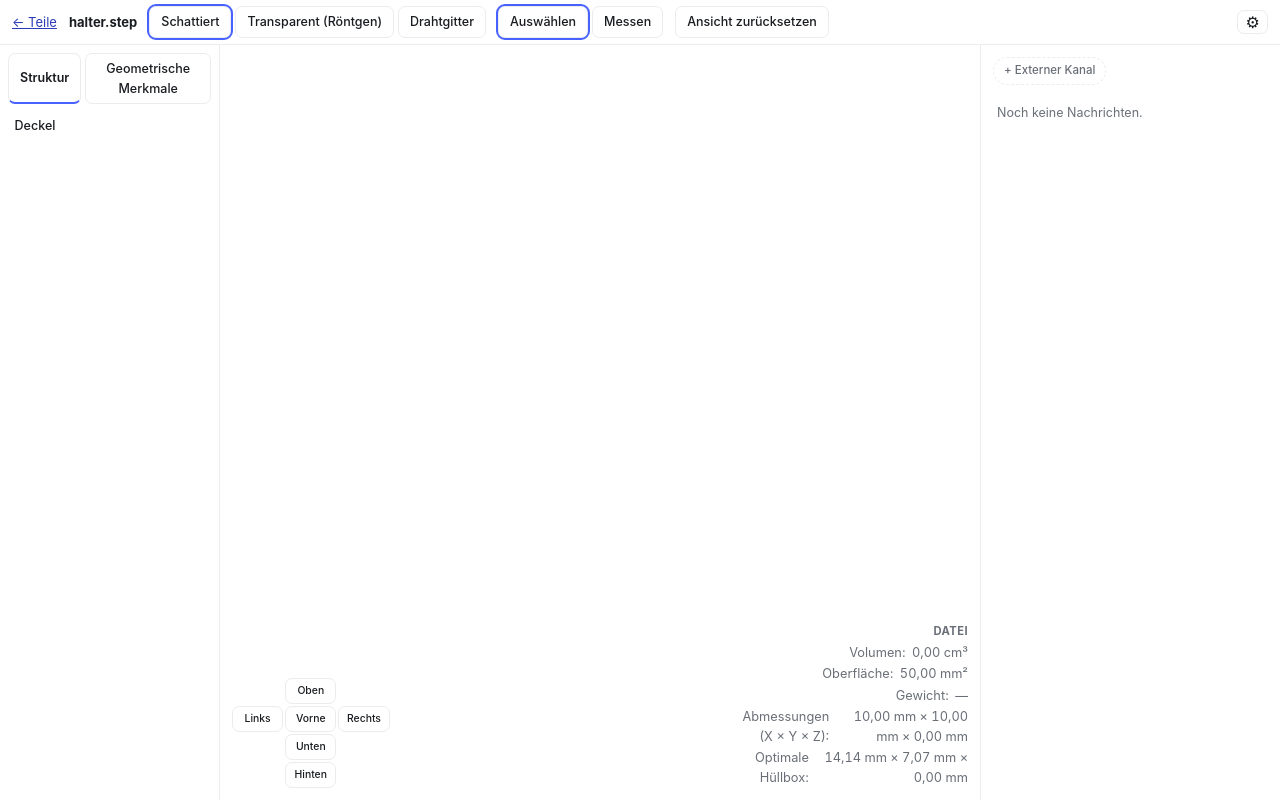
CadViewerPage › has a Geometric Features tab backed by the interrogation state (M4.1)
Expected: the button "Deckel" is shown, [8,112,211,140]
Click the tab "Geometrische Merkmale" at (148, 79), box [85,53,211,104]
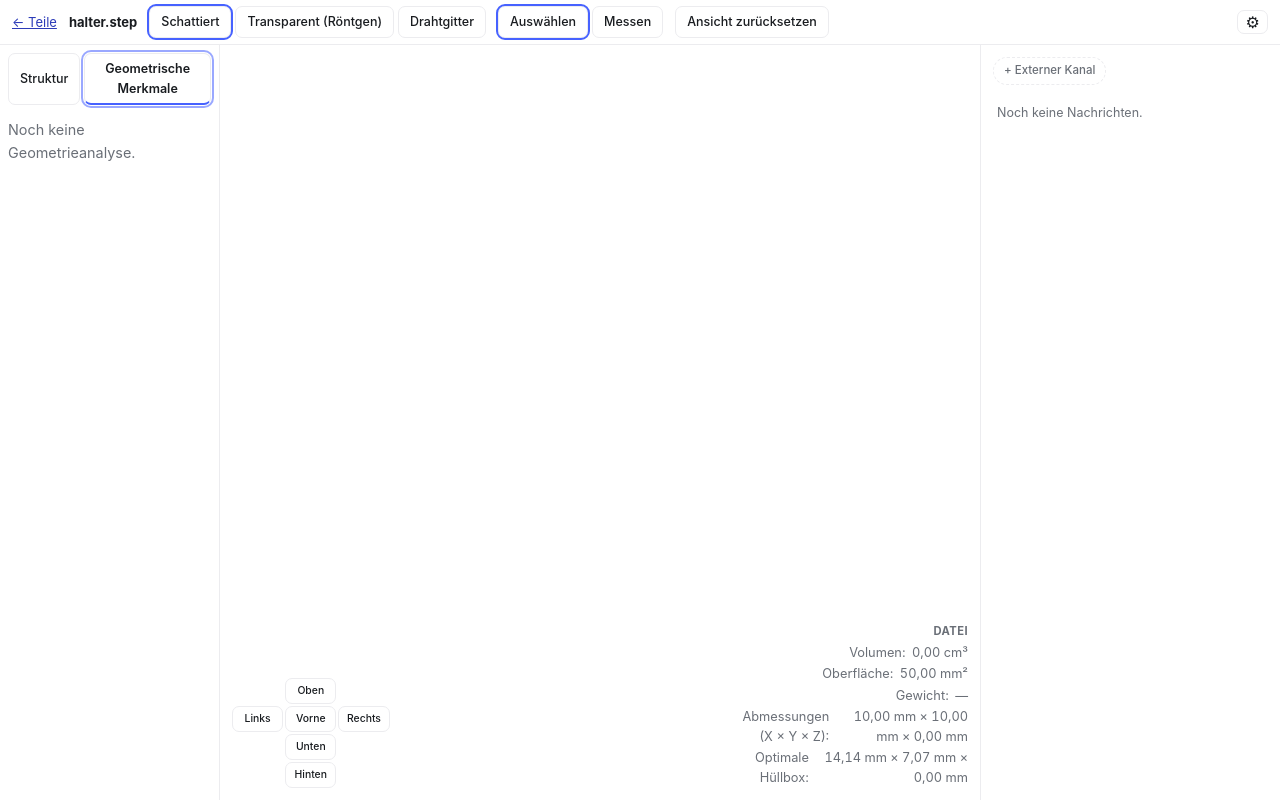
Result: the text "Noch keine Geometrieanalyse." is shown at [8,121,136,161]
